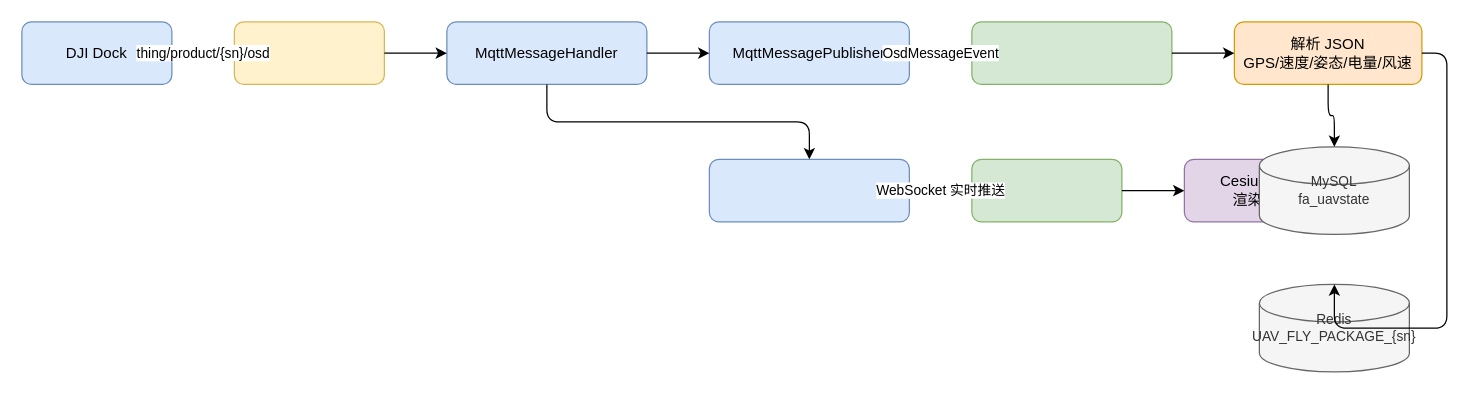
The diagram is 1479 pixels wide and 394 high, and some of its shapes have lost their labels. The centre of each missing label's shape, as x and y in pixels:
FaUavStateService: (x=1071, y=52)
MQTT Broker: (x=308, y=52)
WebSocketService: (x=808, y=190)
浏览器: (x=1046, y=190)
